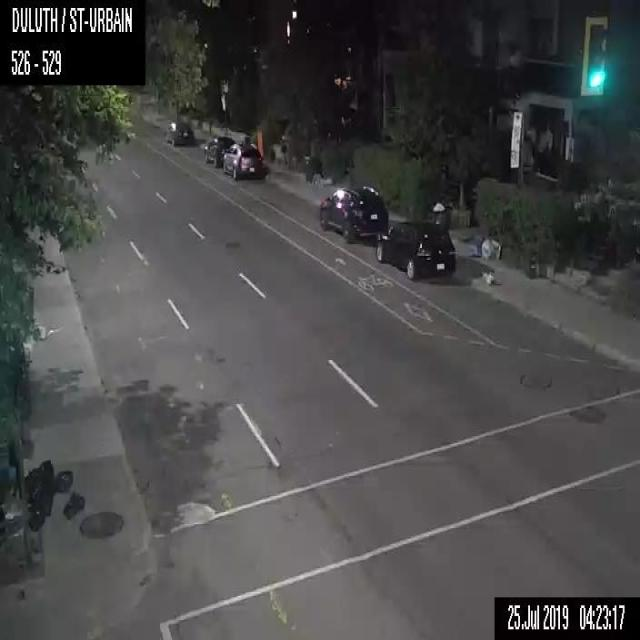construction: (257, 128, 262, 152)
vehicle: (378, 220, 457, 280), (319, 184, 386, 246), (223, 141, 264, 180), (203, 136, 235, 166), (164, 118, 193, 146)
